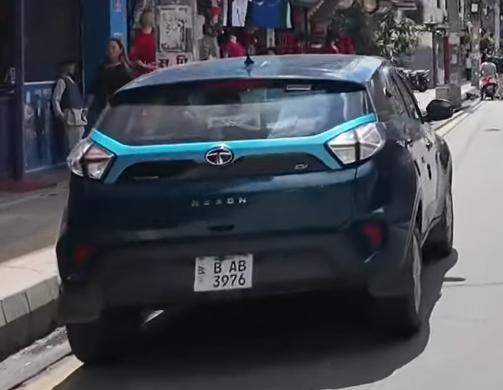car: (51, 51, 474, 357)
